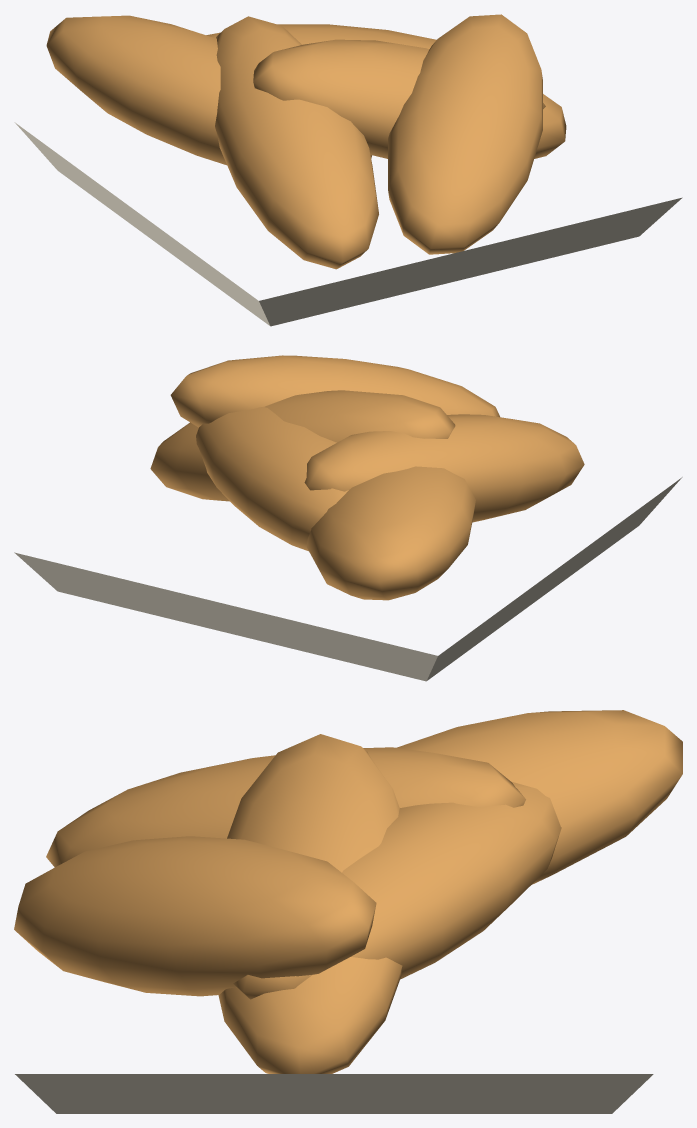
Rendered from strips.glb.
3 renders of one model, top to bottom at view 1: azimuth 30°, elevation 25°; view 2: azimuth 150°, elevation 25°; view 3: azimuth 270°, elevation 25°, orthographic. The views are drawn at different scales.
Visible parts, largest first — view 1: strips; view 2: strips; view 3: strips.
Boxes of the visible parts, x1,y1,x2,y2 form: strips: (14, 14, 682, 326); strips: (14, 355, 682, 681); strips: (14, 710, 682, 1113).
Bounding box in the file's own units: 0.1008 × 0.0372 × 0.1055.
